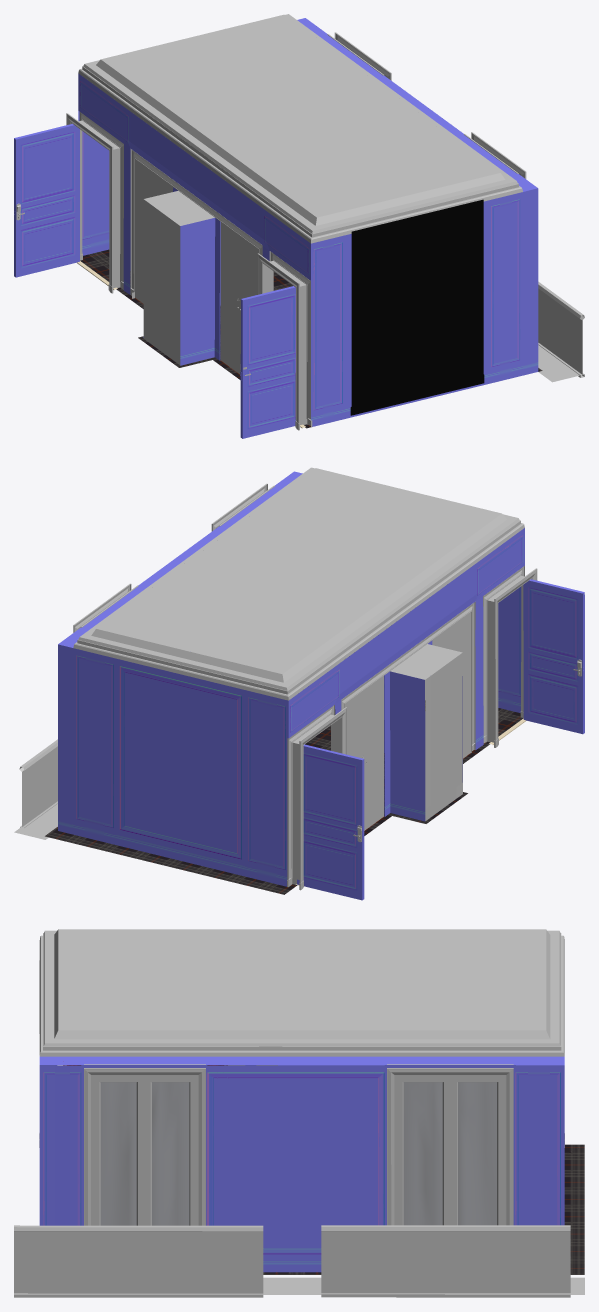
The model's file is SAD_SalonAdagio.fbx.
3 renders of one model, top to bottom at view 1: azimuth 30°, elevation 25°; view 2: azimuth 150°, elevation 25°; view 3: azimuth 270°, elevation 25°, orthographic. The views are drawn at different scales.
Parts seen in each view (by area): view 1: polySurface82, polySurface444, polySurface446, polySurface83; view 2: polySurface82, polySurface444, polySurface83; view 3: polySurface82, polySurface9, polySurface444, polySurface83.
Part boxes in pixels (x1,y1,x2,y2): polySurface82: (78, 14, 584, 428); polySurface444: (14, 32, 526, 438); polySurface446: (350, 199, 484, 415); polySurface83: (78, 14, 522, 243); polySurface82: (14, 468, 524, 894); polySurface444: (73, 483, 584, 900); polySurface83: (73, 467, 524, 700); polySurface82: (14, 929, 584, 1297); polySurface9: (100, 1082, 496, 1225); polySurface444: (39, 1064, 564, 1225); polySurface83: (39, 929, 564, 1056).
Bounding box in the file's own units: 546 × 323 × 722.
